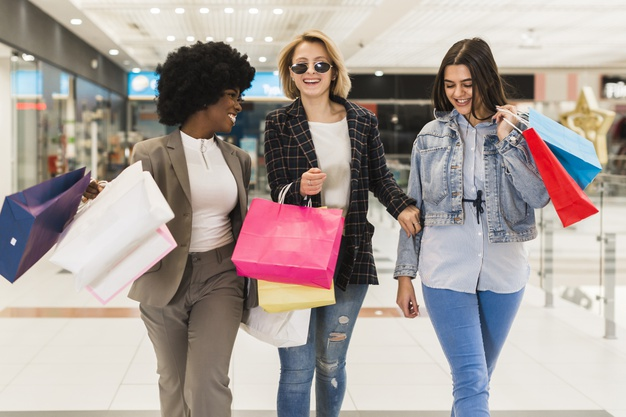Person: (264, 38, 413, 417), (101, 42, 251, 417), (404, 36, 549, 417)
